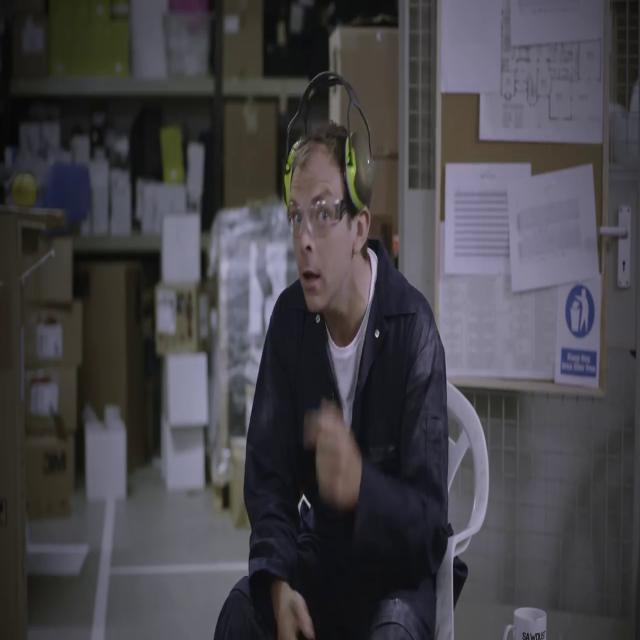earmuff: (346, 128, 375, 214), (279, 135, 305, 206)
glasses: (285, 198, 353, 232)
